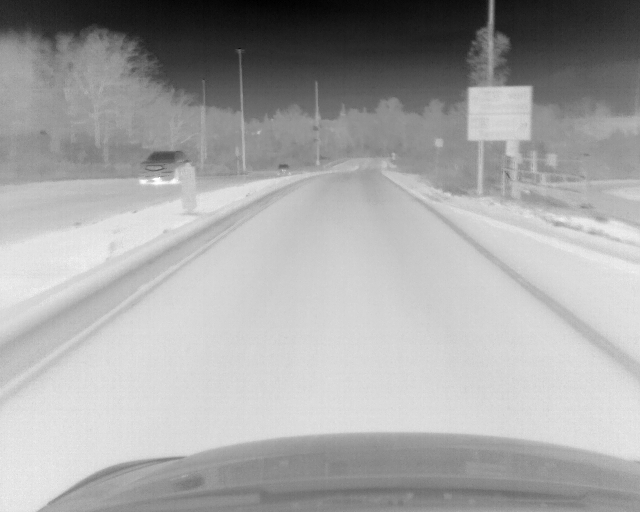car: (137, 150, 191, 184), (277, 163, 291, 175)
